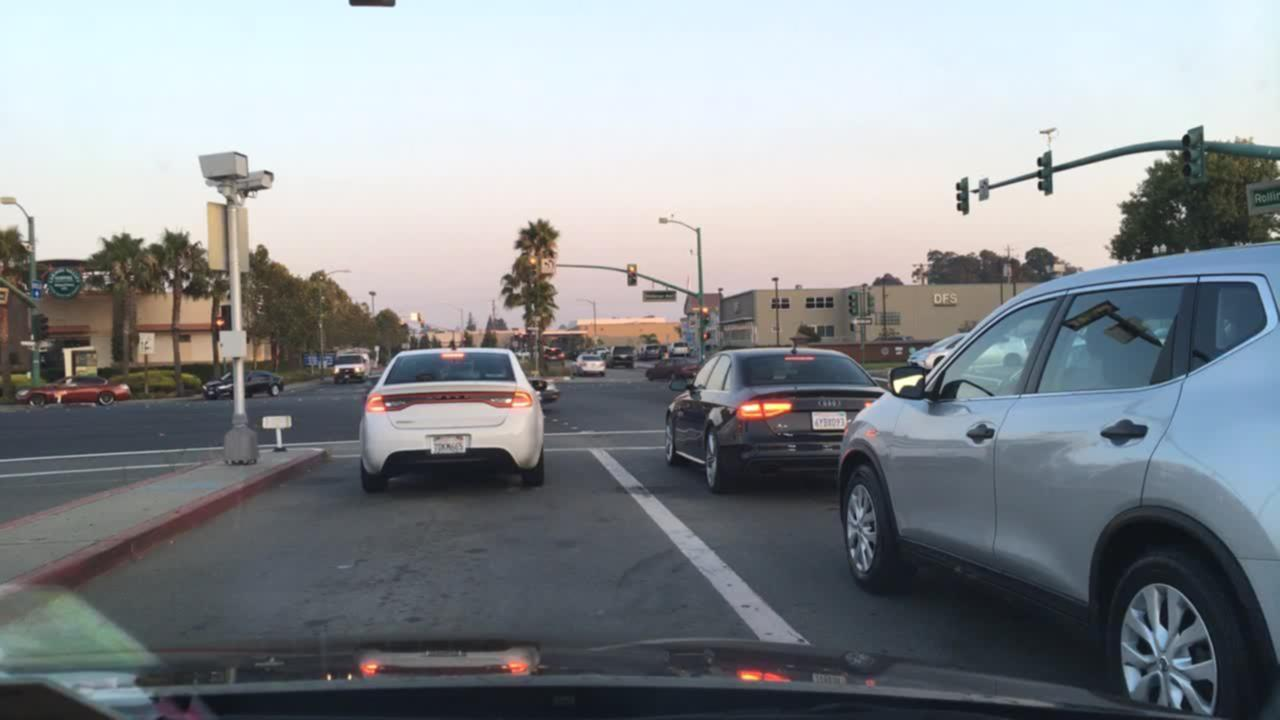Audi: (813, 392, 846, 412)
